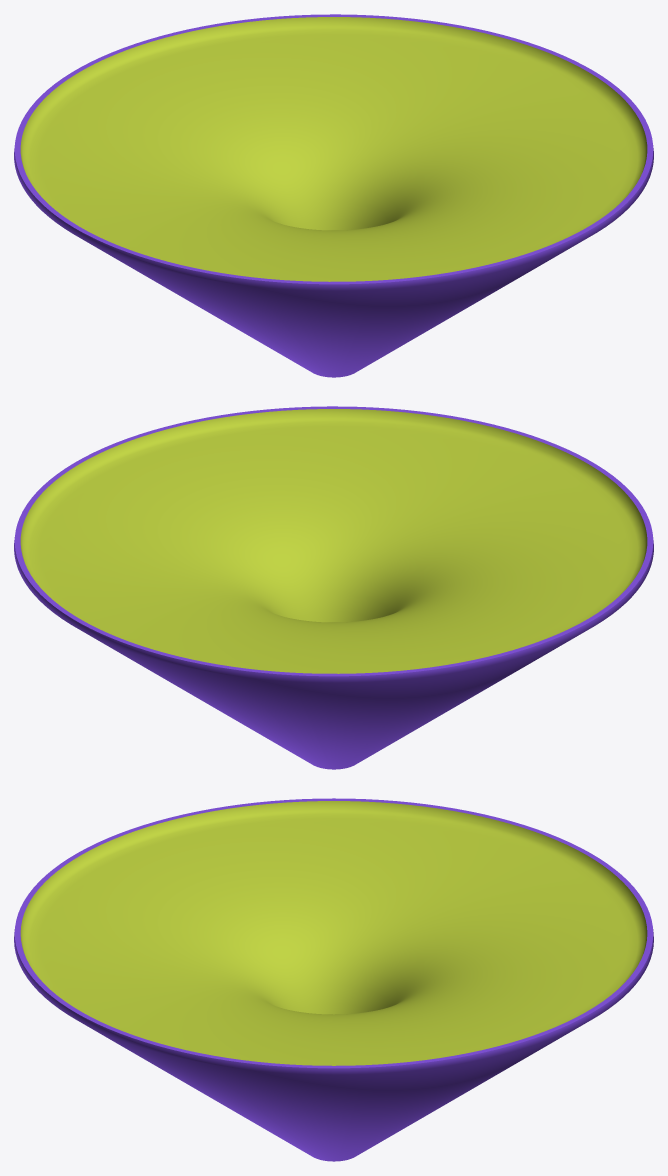
Rendered from vortex-col.dae.
3 views of the same model, one above another, from view 1: azimuth 30°, elevation 25°; view 2: azimuth 150°, elevation 25°; view 3: azimuth 270°, elevation 25° (orthographic).
Visible parts, largest first — view 1: vortex-col; view 2: vortex-col; view 3: vortex-col.
Part boxes in pixels (bbox=[...]): vortex-col: bbox=[14, 14, 653, 377]; vortex-col: bbox=[14, 406, 653, 769]; vortex-col: bbox=[14, 798, 653, 1161].
Bounding box in the file's own units: 16.04 × 16.04 × 6.
